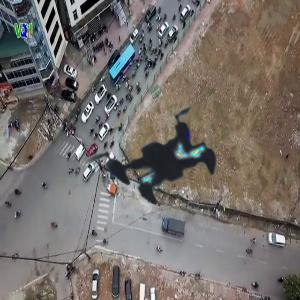drone: (61, 58, 268, 265)
